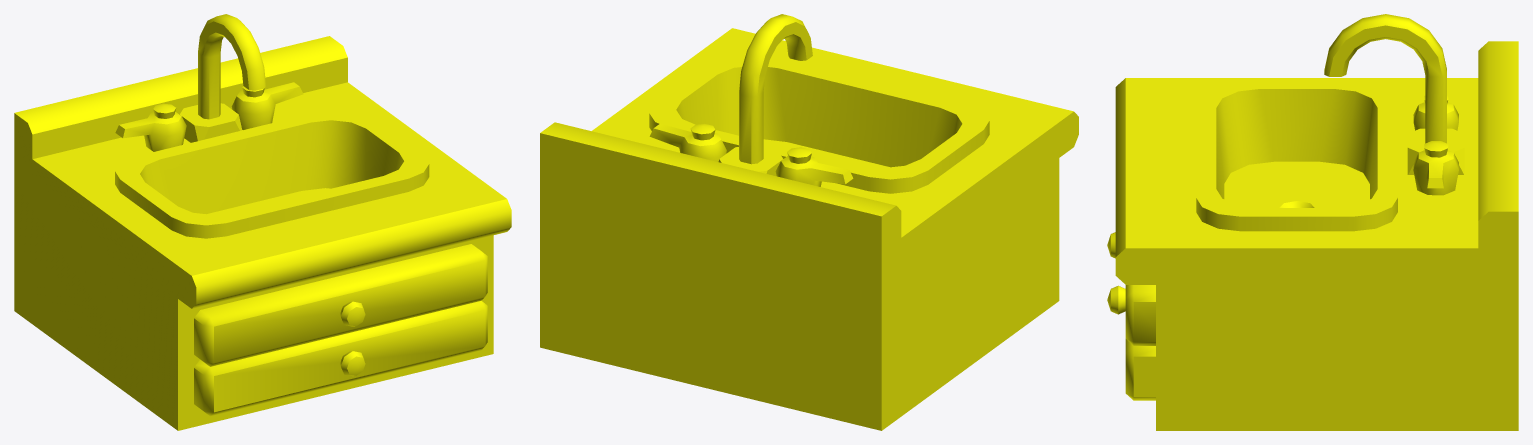
File: kitchencounter_sink_backsplash.gltf
3 views of the same model, side by side, from view 1: azimuth 30°, elevation 25°; view 2: azimuth 150°, elevation 25°; view 3: azimuth 270°, elevation 25° (orthographic). The views are drawn at different scales.
Parts seen in each view (by area): view 1: kitchencounter_sink_backsplash; view 2: kitchencounter_sink_backsplash; view 3: kitchencounter_sink_backsplash.
Boxes of the visible parts, x1,y1,x2,y2 form: kitchencounter_sink_backsplash: [14, 14, 511, 430]; kitchencounter_sink_backsplash: [540, 14, 1078, 430]; kitchencounter_sink_backsplash: [1107, 14, 1518, 430].
Bounding box in the file's own units: 2 × 1.8 × 2.04.
Materials: 1 (1 with a texture image).
